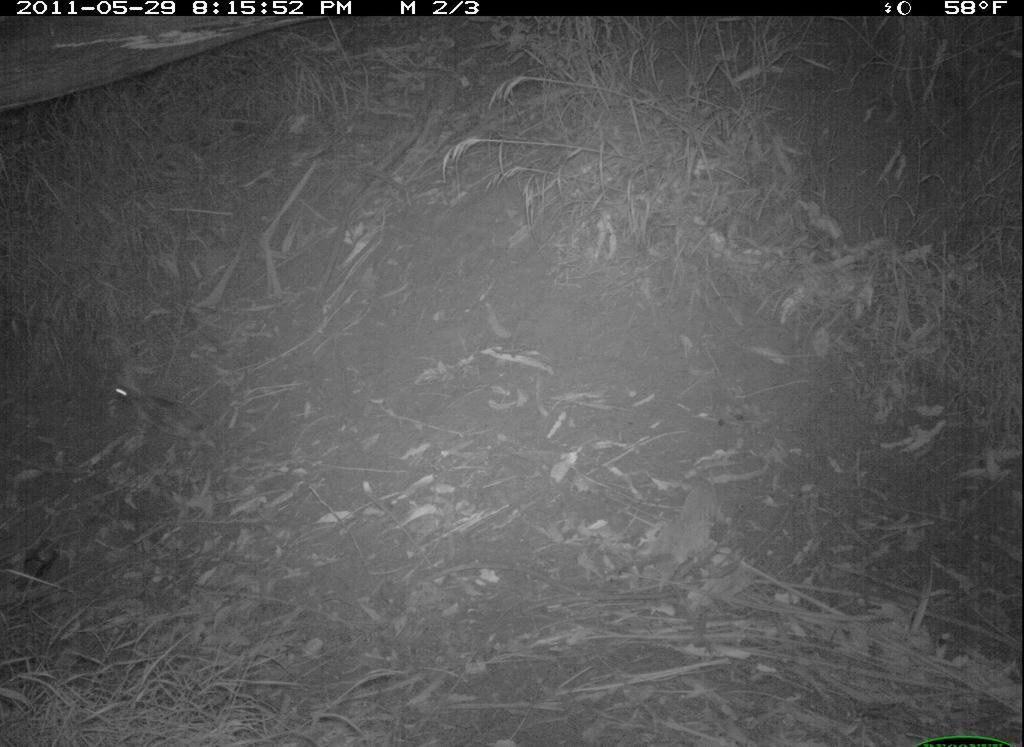rabbit: (107, 357, 225, 453)
